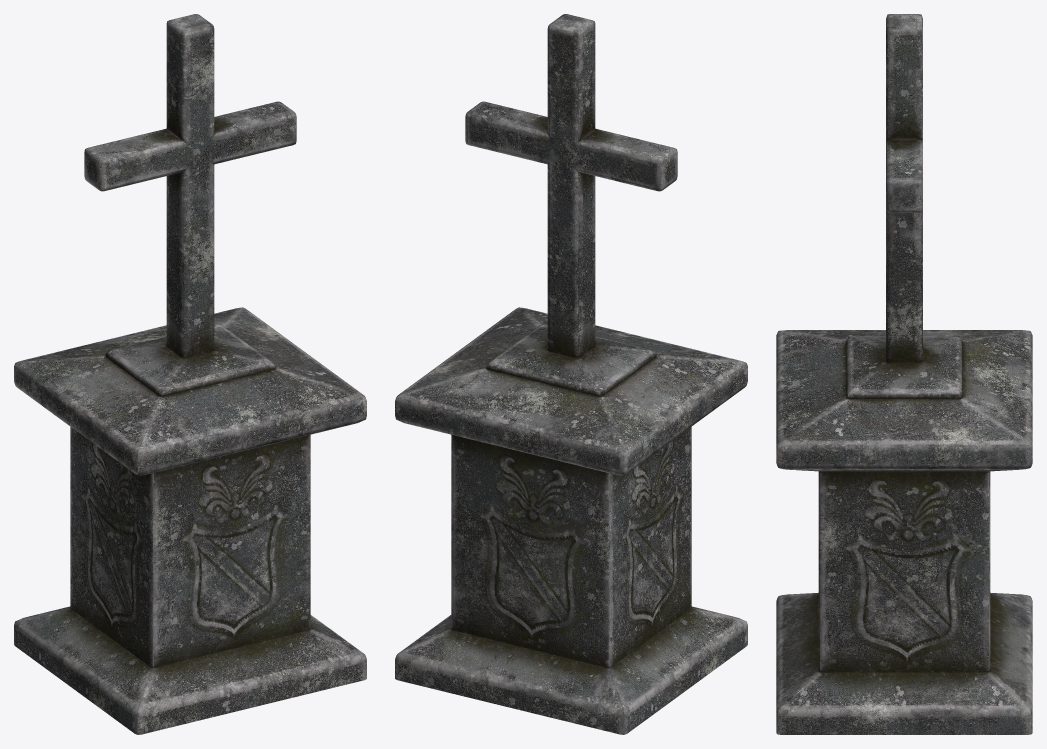
File: SM_gravestone_03.fbx
3 views of the same model, side by side, from view 1: azimuth 30°, elevation 25°; view 2: azimuth 150°, elevation 25°; view 3: azimuth 270°, elevation 25° (orthographic). The views are drawn at different scales.
Parts seen in each view (by area): view 1: SM_gravestone_03; view 2: SM_gravestone_03; view 3: SM_gravestone_03.
Part boxes in pixels (bbox=[...]): SM_gravestone_03: bbox=[14, 14, 366, 734]; SM_gravestone_03: bbox=[395, 14, 747, 734]; SM_gravestone_03: bbox=[776, 14, 1032, 734].
Bounding box in the file's own units: 56.99 × 151 × 53.32.
